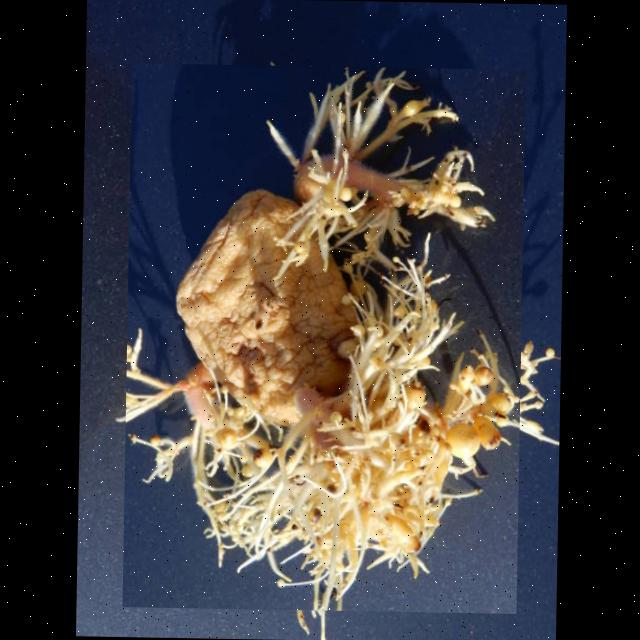Sprouted potato: (121, 62, 524, 614)
